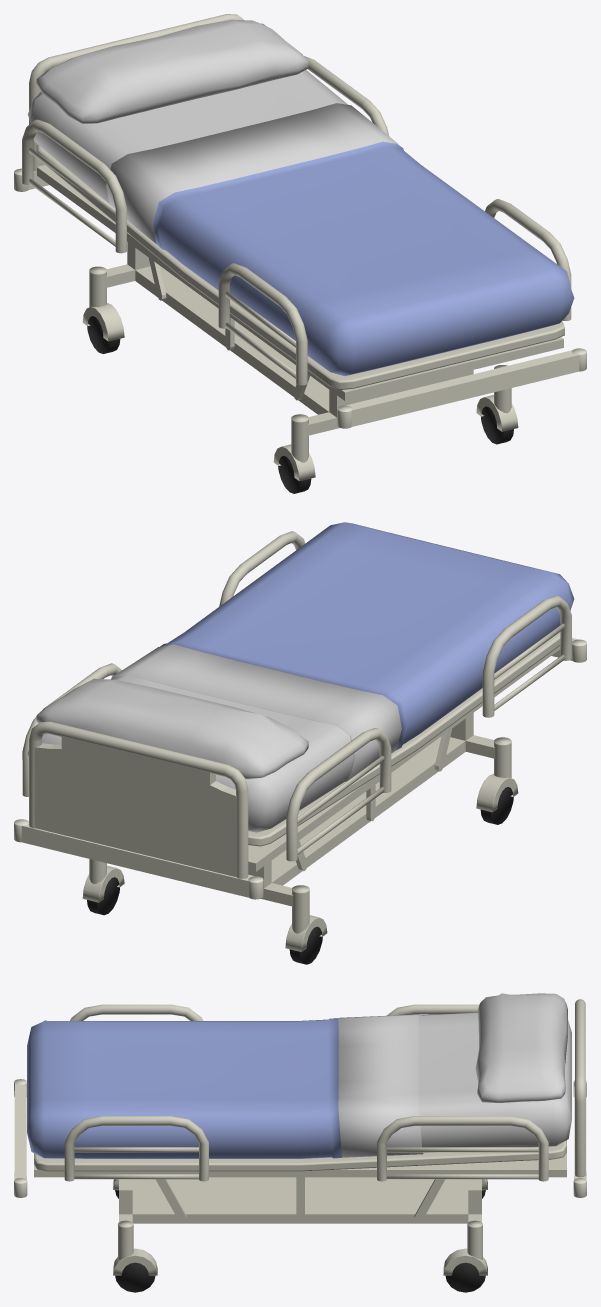
The picture shows the model from 3 angles, top to bottom: view 1: azimuth 30°, elevation 25°; view 2: azimuth 150°, elevation 25°; view 3: azimuth 270°, elevation 25°; orthographic projection. The views are drawn at different scales.
Parts seen in each view (by area): view 1: Cube.001, Cube.006, Cube.004, Cube.005, Cube.003, Circle.003_Circle.005, Circle.004, Cube.002, Circle.001, Circle.006_Circle.007, Circle.002, Cylinder; view 2: Cube.001, Circle.006_Circle.007, Cube.006, Cube.004, Cube.005, Circle.004, Circle.005_Circle.006, Cube.003, Circle.001, Cube.002, Circle.002, Cylinder; view 3: Cube.001, Cube.005, Cube.004, Cube.006, Cube.003, Circle.004, Cube.002, Circle.002, Circle.006_Circle.007, Circle.003_Circle.005, Cylinder, Circle.001 (+1 smaller).
Part boxes in pixels (left/top/right/bottom): Cube.001: left=27, top=70, right=574, bottom=376; Cube.006: left=36, top=19, right=308, bottom=123; Cube.004: left=106, top=103, right=403, bottom=250; Cube.005: left=82, top=242, right=518, bottom=493; Cube.003: left=36, top=145, right=564, bottom=389; Circle.003_Circle.005: left=337, top=348, right=586, bottom=428; Circle.004: left=22, top=56, right=388, bottom=253; Cube.002: left=37, top=165, right=563, bottom=400; Circle.001: left=218, top=263, right=307, bottom=385; Circle.006_Circle.007: left=29, top=14, right=243, bottom=171; Circle.002: left=485, top=199, right=571, bottom=320; Cylinder: left=148, top=258, right=309, bottom=400; Cube.001: left=27, top=522, right=574, bottom=832; Circle.006_Circle.007: left=29, top=721, right=248, bottom=878; Cube.006: left=36, top=678, right=308, bottom=779; Cube.004: left=111, top=640, right=407, bottom=781; Cube.005: left=82, top=713, right=518, bottom=964; Circle.004: left=22, top=663, right=391, bottom=861; Circle.005_Circle.006: left=14, top=819, right=263, bottom=899; Cube.003: left=248, top=632, right=560, bottom=846; Circle.001: left=482, top=595, right=571, bottom=717; Cube.002: left=248, top=646, right=560, bottom=871; Circle.002: left=219, top=531, right=305, bottom=606; Cylinder: left=296, top=728, right=452, bottom=871; Cube.001: left=27, top=1012, right=571, bottom=1158; Cube.005: left=113, top=1177, right=487, bottom=1292; Cube.004: left=328, top=1014, right=423, bottom=1158; Cube.006: left=475, top=993, right=567, bottom=1102; Cube.003: left=34, top=1140, right=566, bottom=1171; Circle.004: left=377, top=1004, right=548, bottom=1181; Cube.002: left=34, top=1152, right=566, bottom=1177; Circle.002: left=64, top=1116, right=208, bottom=1181; Circle.006_Circle.007: left=575, top=999, right=585, bottom=1177; Circle.003_Circle.005: left=14, top=1079, right=27, bottom=1197; Cylinder: left=155, top=1177, right=445, bottom=1222; Circle.001: left=70, top=1004, right=203, bottom=1020.
Size of the model in its own units: 10004 by 8968 by 20956.
